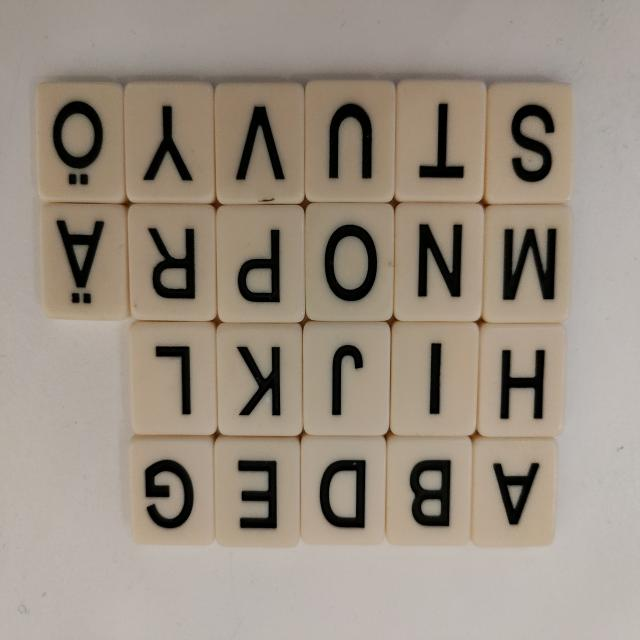a: (472, 437, 558, 546)
a_dot: (38, 205, 129, 321)
b: (384, 436, 474, 546)
d: (301, 436, 386, 546)
e: (214, 437, 301, 547)
g: (128, 438, 215, 545)
h: (477, 324, 567, 436)
i: (391, 323, 481, 439)
j: (303, 318, 393, 436)
k: (215, 321, 304, 436)
l: (129, 321, 218, 438)
m: (483, 205, 573, 326)
n: (393, 203, 485, 325)
o: (303, 204, 395, 320)
o_dot: (35, 82, 127, 204)
p: (216, 205, 305, 324)
r: (127, 202, 219, 321)
s: (484, 82, 573, 205)
t: (394, 81, 488, 203)
u: (305, 80, 397, 203)
v: (214, 84, 306, 206)
y: (125, 81, 215, 206)
